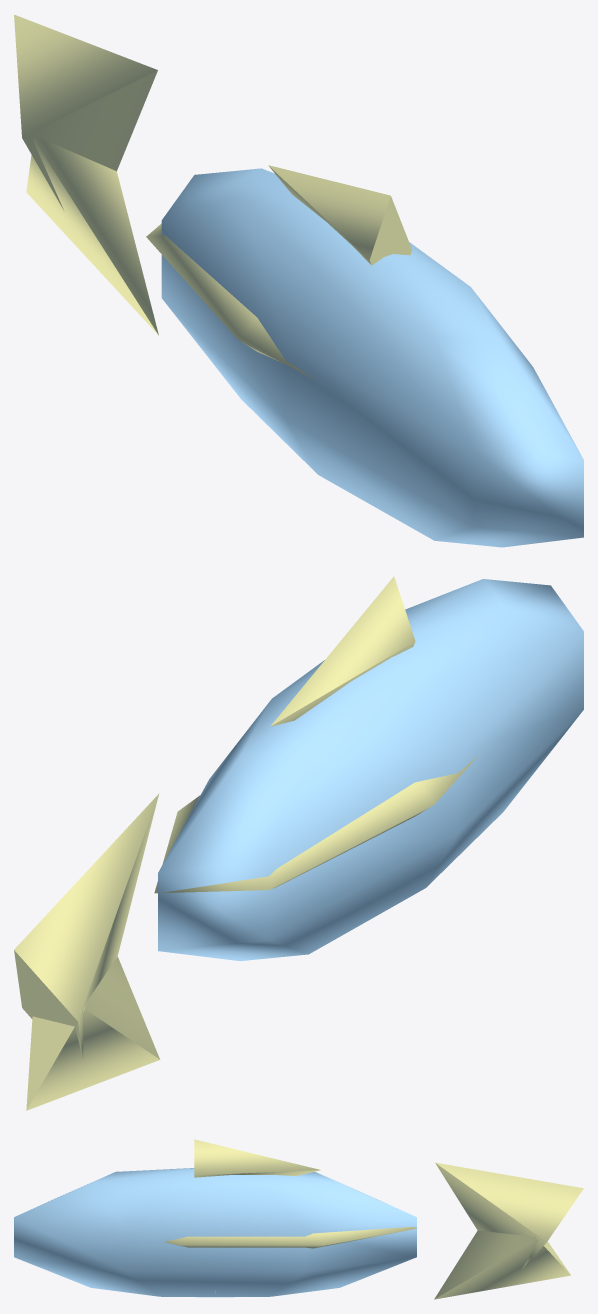
File: yellowtail.glb
The picture shows the model from 3 angles, top to bottom: view 1: azimuth 30°, elevation 25°; view 2: azimuth 150°, elevation 25°; view 3: azimuth 270°, elevation 25°; orthographic projection. The views are drawn at different scales.
Parts seen in each view (by area): view 1: yellowtail; view 2: yellowtail; view 3: yellowtail.
Boxes of the visible parts, left/top/right/bottom form: yellowtail: left=14, top=14, right=583, bottom=547; yellowtail: left=14, top=576, right=583, bottom=1110; yellowtail: left=14, top=1139, right=583, bottom=1299.
Size of the model in its own units: 0.2072 by 0.3338 by 1.08.
